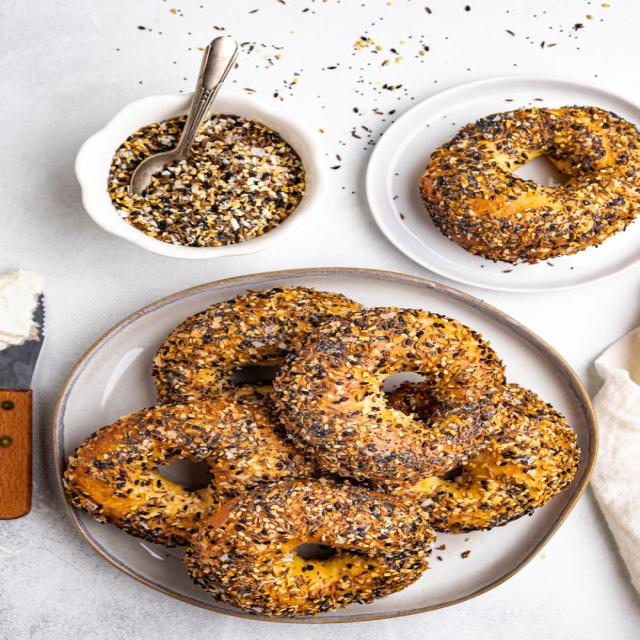Bagel: (274, 308, 506, 479), (64, 399, 319, 546), (186, 479, 435, 616), (420, 108, 639, 263), (152, 288, 364, 404), (420, 384, 581, 533)
